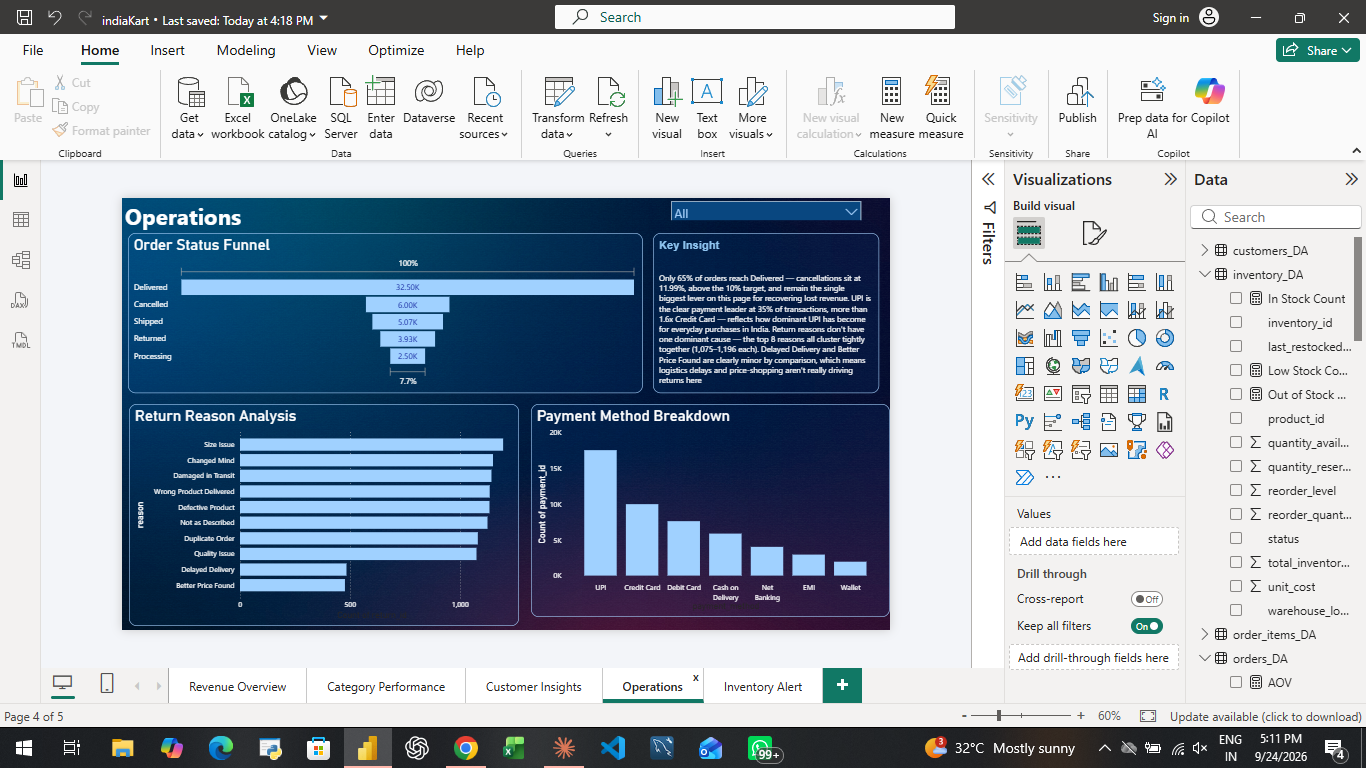

The dashboard page shown, as its layout file describes it:
{"tool":"powerbi","page":{"name":"Operations","canvas":[1280,720],"ordinal":3},"visuals":[{"type":"textbox","box":[0,0,533.3,70],"z":0},{"type":"funnel","title":"Order Status Funnel","fields":{"Category":["orders_DA.status"],"Y":["CountNonNull(orders_DA.order_id)"]},"box":[10,58.3,858.3,266.7],"z":1000},{"type":"textbox","box":[885,58.3,376.7,266.7],"z":3000},{"type":"barChart","title":"Return Reason Analysis","fields":{"Category":["returns_DA.reason"],"Y":["CountNonNull(returns_DA.return_id)"]},"box":[11.7,343.3,650,370],"z":4000},{"type":"slicer","fields":{"Values":["payments_DA.payment_method"]},"box":[910,0,326.7,36.7],"z":5000},{"type":"columnChart","title":"Payment Method Breakdown","fields":{"Category":["payments_DA.payment_method"],"Y":["CountNonNull(payments_DA.payment_id)"]},"box":[681.7,343.3,598.3,355],"z":6000}]}

Visuals, with their boxes on the page's 1280x720 design canvas (x1, y1, x2, y2). These are canvas units, not pixel positions in the 1366x768 screenshot, which may show the page scaled, cropped or inside an application window:
textbox: 0, 0, 533, 70
"Order Status Funnel" funnel: 10, 58, 868, 325
textbox: 885, 58, 1262, 325
"Return Reason Analysis" barChart: 12, 343, 662, 713
slicer - payments_DA.payment_method: 910, 0, 1237, 37
"Payment Method Breakdown" columnChart: 682, 343, 1280, 698
